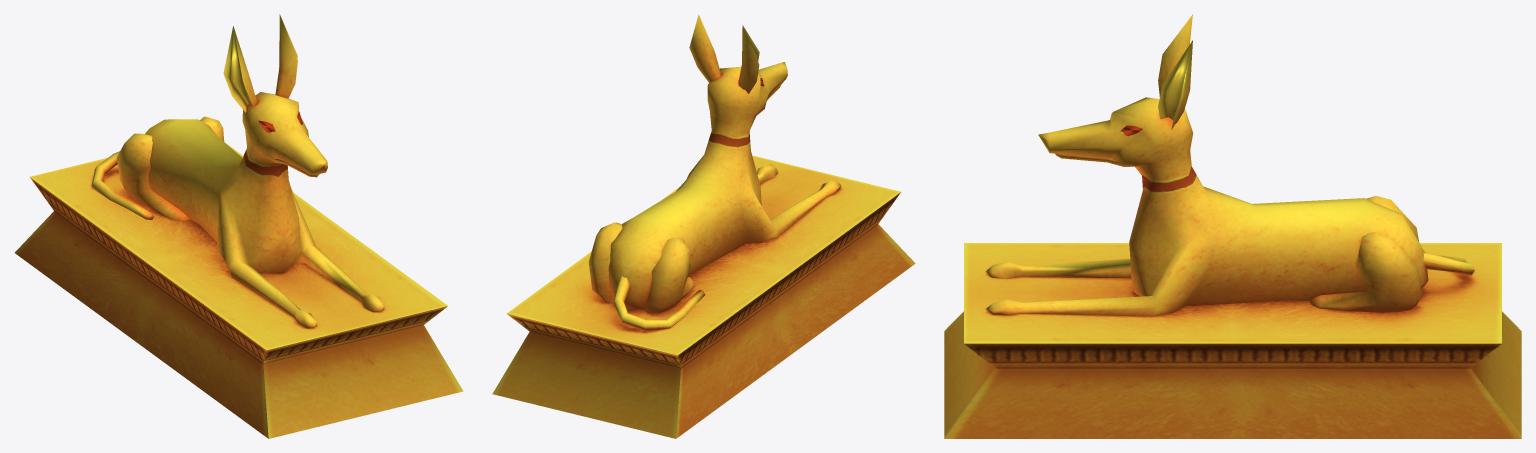
The model's file is Obstacle_Bonus.fbx.
3 views of the same model, side by side, from view 1: azimuth 30°, elevation 25°; view 2: azimuth 150°, elevation 25°; view 3: azimuth 270°, elevation 25° (orthographic). The views are drawn at different scales.
Visible parts, largest first — view 1: Obstacle_Bonus; view 2: Obstacle_Bonus; view 3: Obstacle_Bonus.
Part boxes in pixels (bbox=[...]): Obstacle_Bonus: bbox=[15, 14, 463, 438]; Obstacle_Bonus: bbox=[492, 14, 915, 438]; Obstacle_Bonus: bbox=[944, 14, 1521, 438].
Size of the model in its own units: 14.57 by 22.53 by 32.91.
